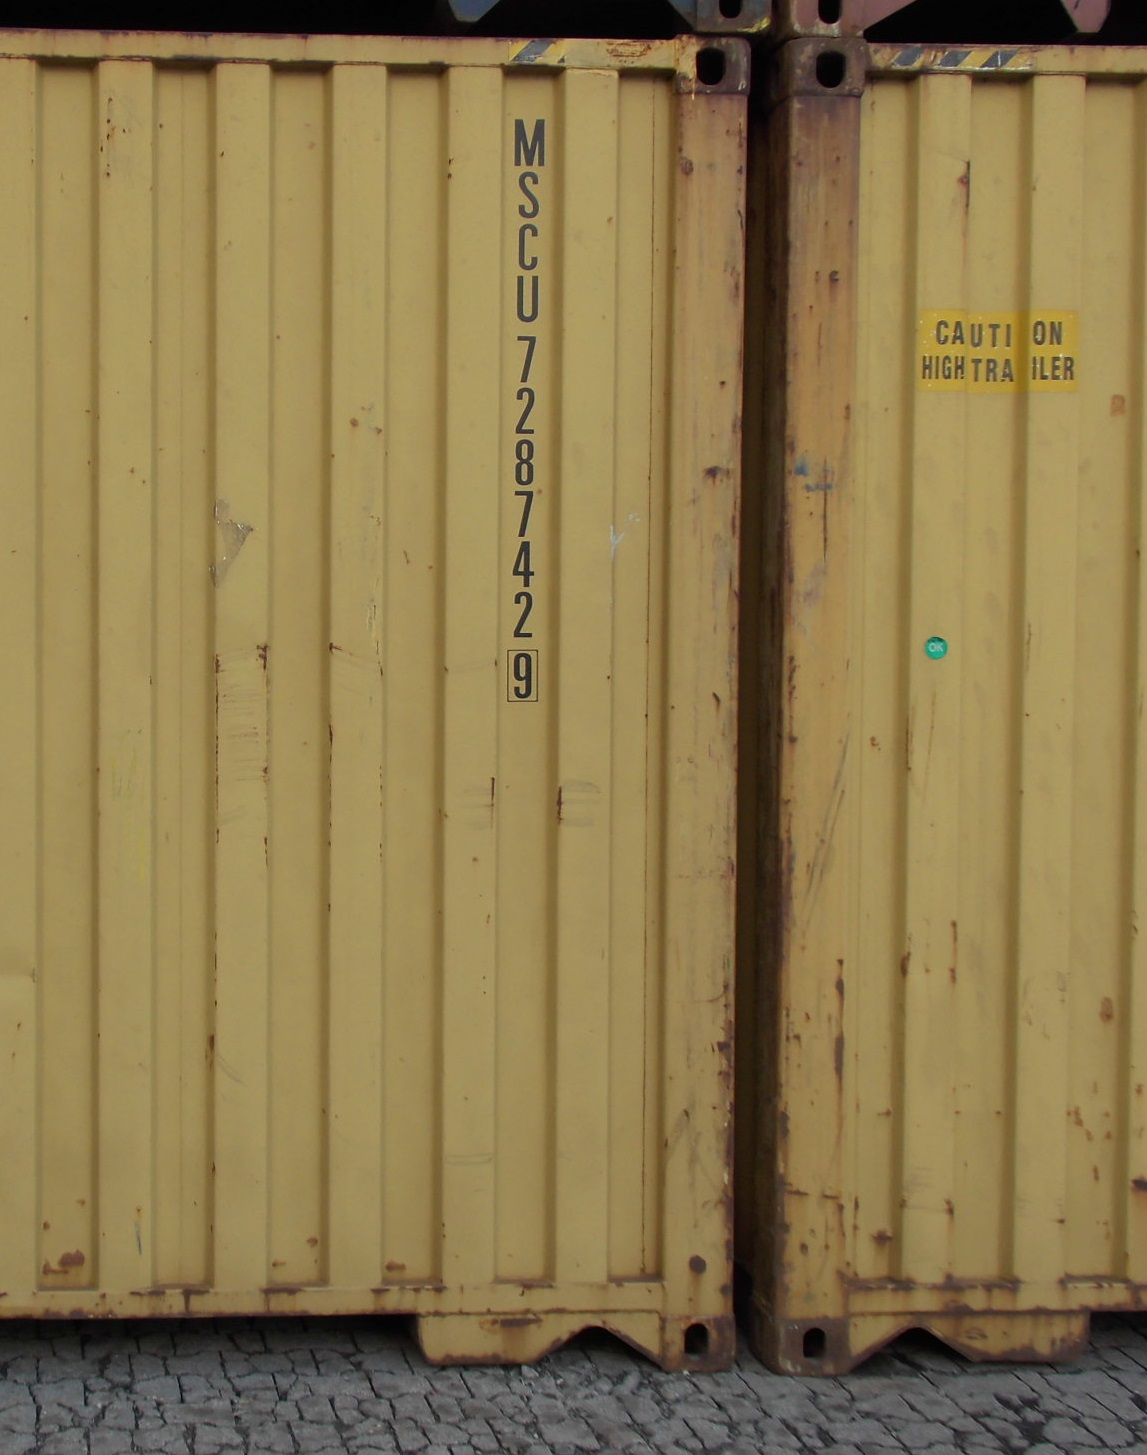container_no_door: (1, 28, 739, 1361), (775, 41, 1146, 1377)
